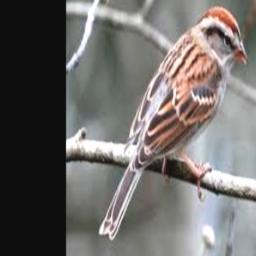Sparrow: (99, 6, 249, 241)
